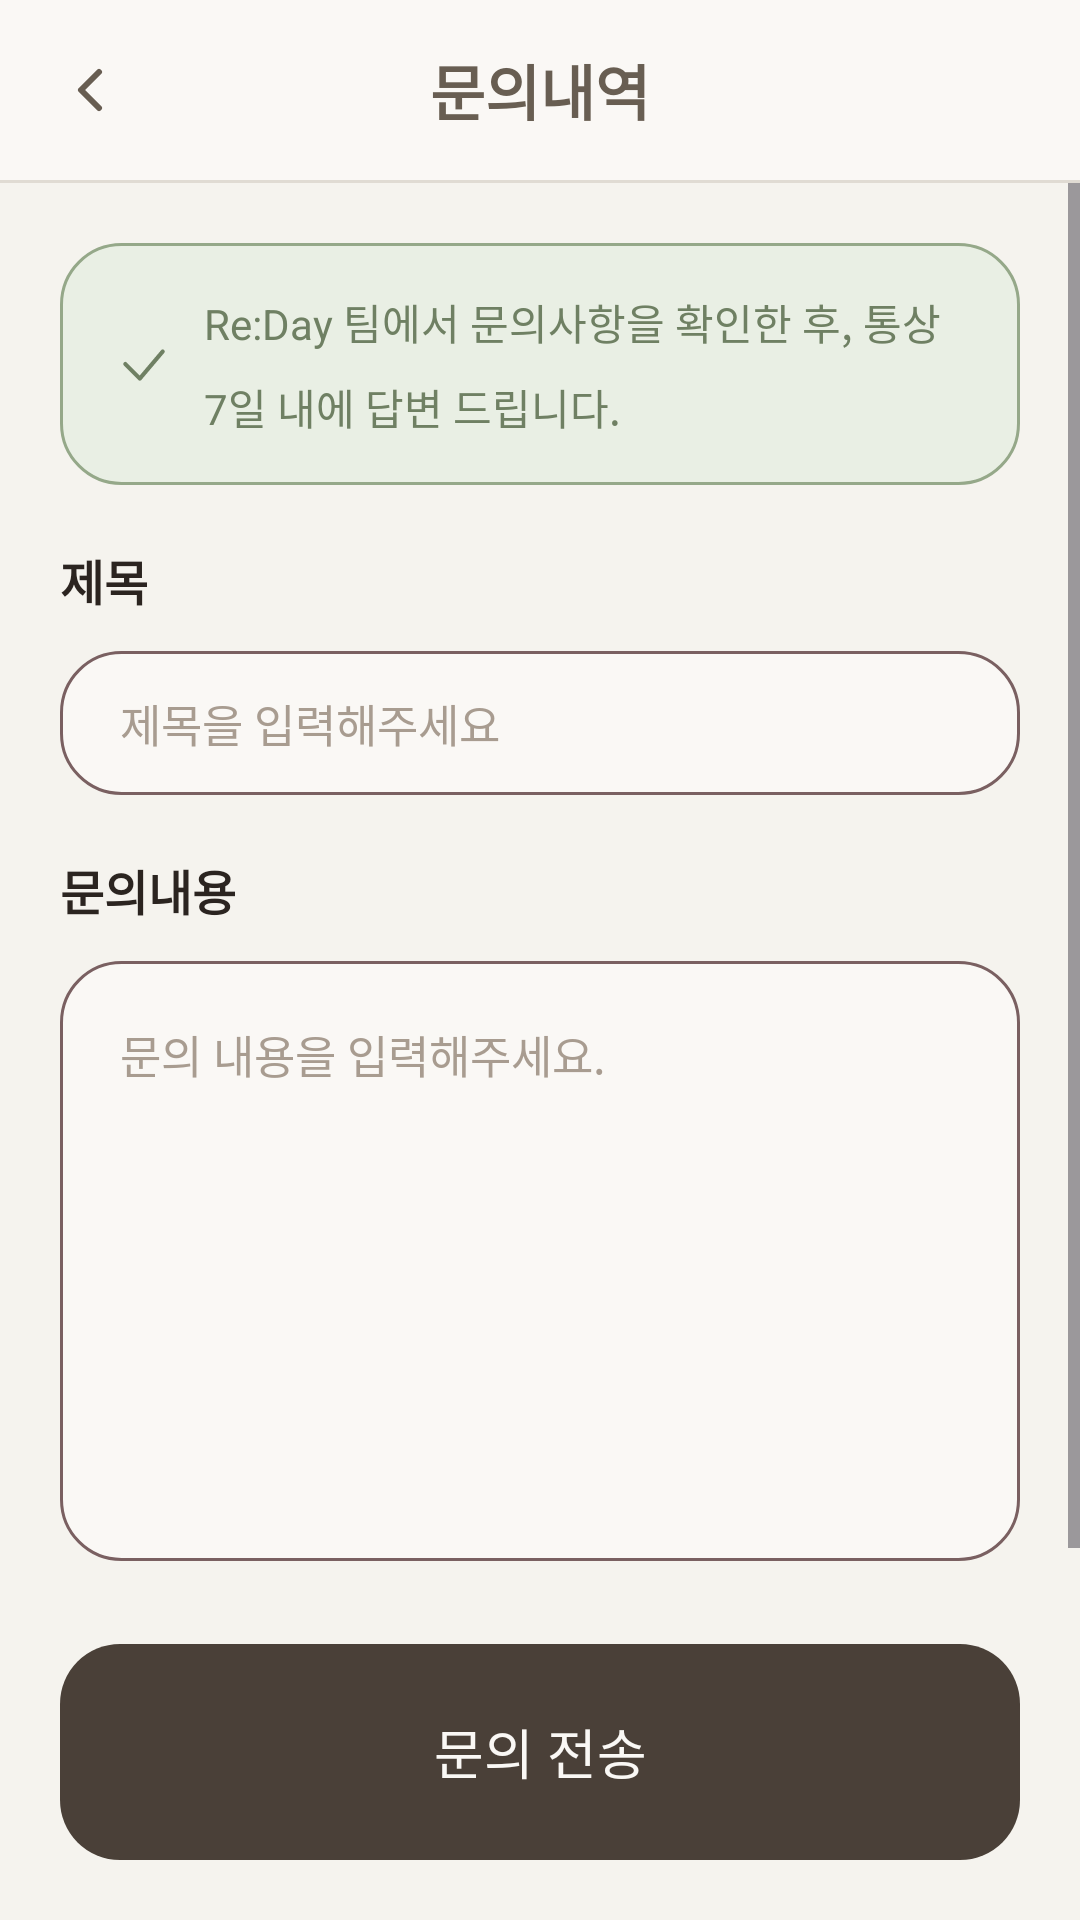

Where icons sit on this 1080 x 1920 app screen, as region(x1, y1, x2, y2):
check stroke: region(123, 349, 165, 381)
뒤로: region(78, 69, 102, 111)
